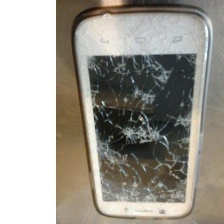phone: (66, 0, 215, 222)
